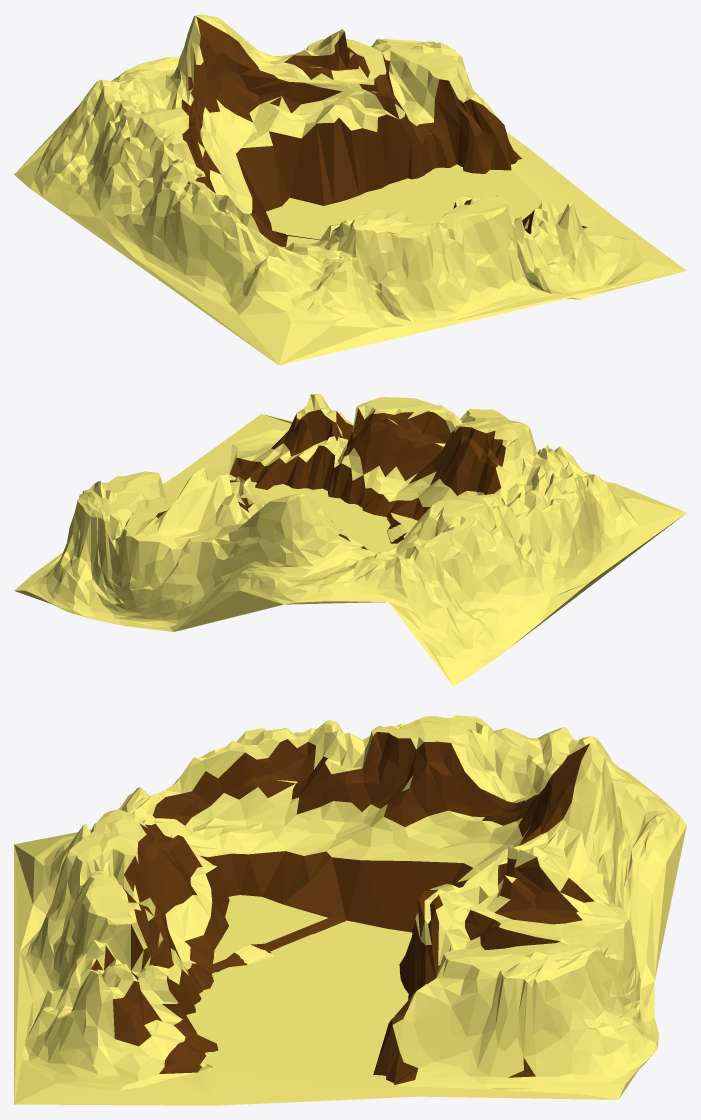
3 views of the same model, one above another, from view 1: azimuth 30°, elevation 25°; view 2: azimuth 150°, elevation 25°; view 3: azimuth 270°, elevation 25° (orthographic). The views are drawn at different scales.
Visible parts, largest first — view 1: HigherPLains, Cliff, SolVallée; view 2: HigherPLains, Cliff, SolVallée; view 3: HigherPLains, Cliff, SolVallée, SolPlateau.
Boxes of the visible parts, x1=… form: HigherPLains: x1=14, y1=14, x2=686, y2=365; Cliff: x1=181, y1=16, x2=587, y2=247; SolVallée: x1=266, y1=164, x2=543, y2=239; HigherPLains: x1=14, y1=394, x2=686, y2=686; Cliff: x1=155, y1=408, x2=549, y2=553; SolVallée: x1=229, y1=479, x2=396, y2=552; HigherPLains: x1=14, y1=715, x2=686, y2=1105; Cliff: x1=91, y1=732, x2=594, y2=1085; SolVallée: x1=186, y1=920, x2=412, y2=1074; SolPlateau: x1=212, y1=895, x2=327, y2=963.
Size of the model in its own units: 485471 by 168350 by 498213.
